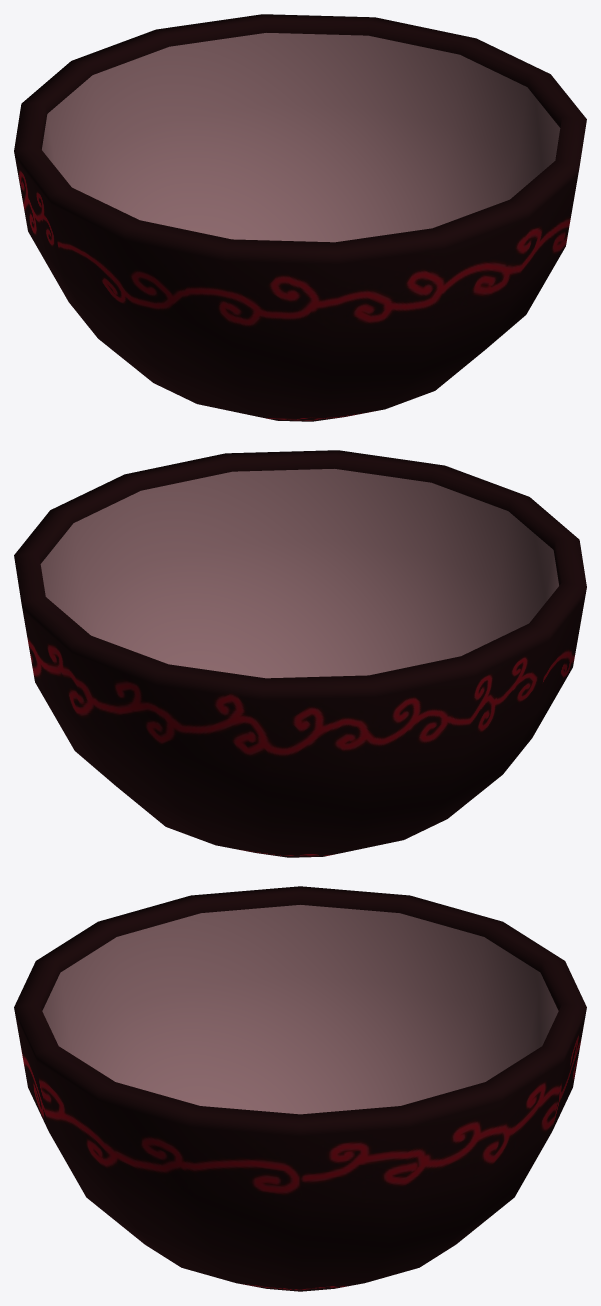
The model's file is zdjela fbx file negativni.fbx.
3 views of the same model, one above another, from view 1: azimuth 30°, elevation 25°; view 2: azimuth 150°, elevation 25°; view 3: azimuth 270°, elevation 25° (orthographic).
Visible parts, largest first — view 1: zdjelica; view 2: zdjelica; view 3: zdjelica.
Boxes of the visible parts, x1,y1,x2,y2 form: zdjelica: [14, 14, 586, 421]; zdjelica: [14, 450, 586, 857]; zdjelica: [14, 886, 586, 1291].
Bounding box in the file's own units: 102 × 49.04 × 102.
1 material, 1 textured.
